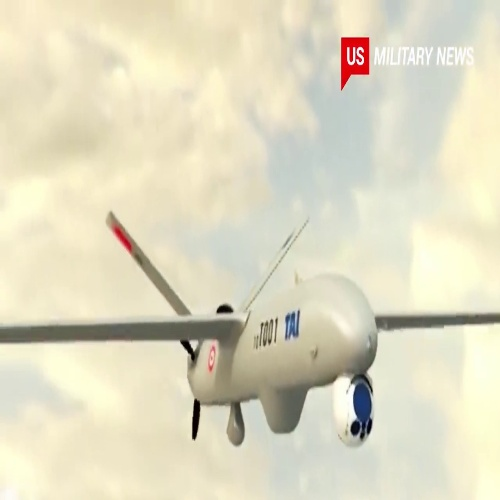uav: (2, 207, 500, 448)
